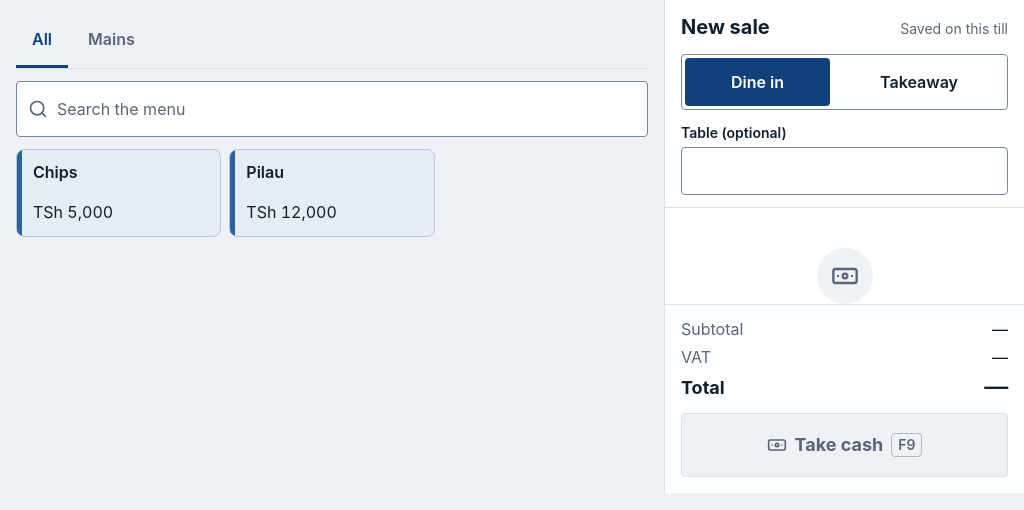
the offline register › offline with VAT on top, the lines add up to the Subtotal (2 chips: TSh 10,000, plus VAT TSh 1,800, is TSh 11,800)
Step 1. Click the button with test id "menu-Chips" → (119, 193), box [16,149,221,237]
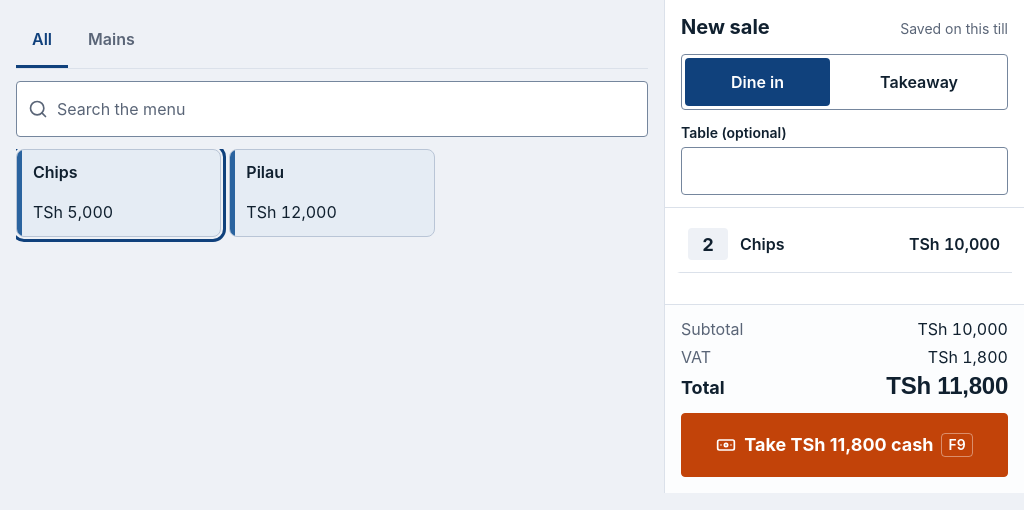
Expected: the list item with test id "cart-Chips" shows "TSh 10,000", [677,216,1012,273]
